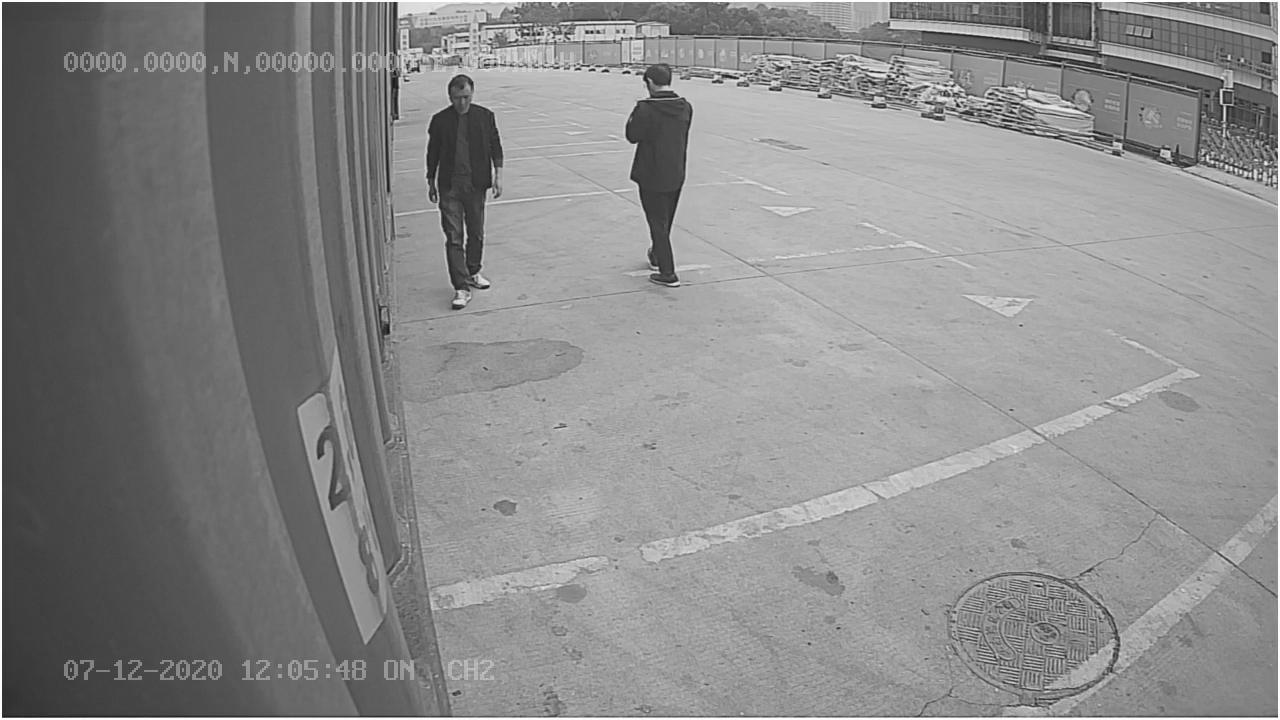person: (421, 72, 508, 310), (619, 60, 691, 288)
